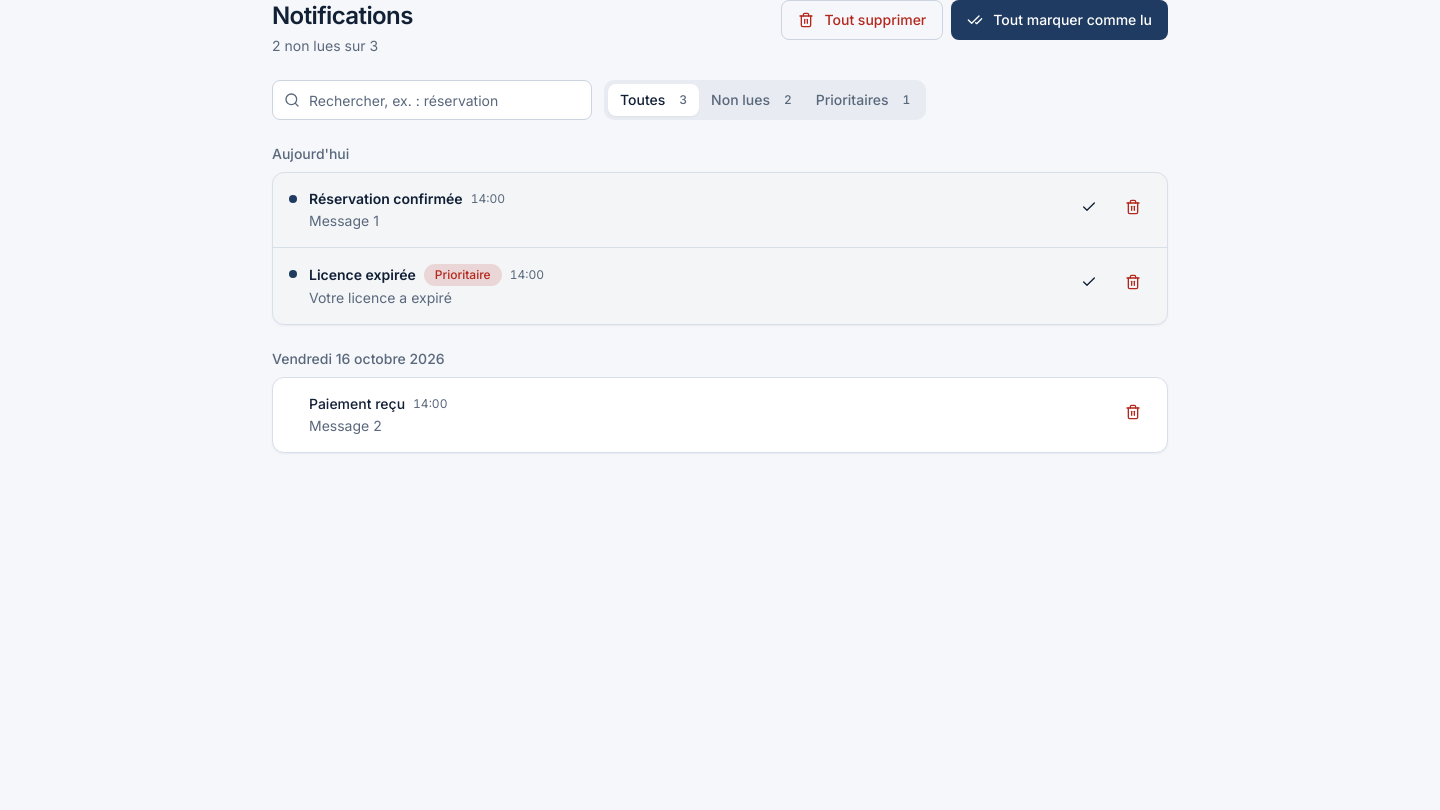
NotificationsPage › demande confirmation avant de tout supprimer, puis supprime tout en une seule requête
expect the text "Message 1" is shown: met, box left=309, top=212, right=379, bottom=229
Click the button "Tout supprimer" at {"x": 862, "y": 20}, box left=782, top=0, right=943, bottom=40
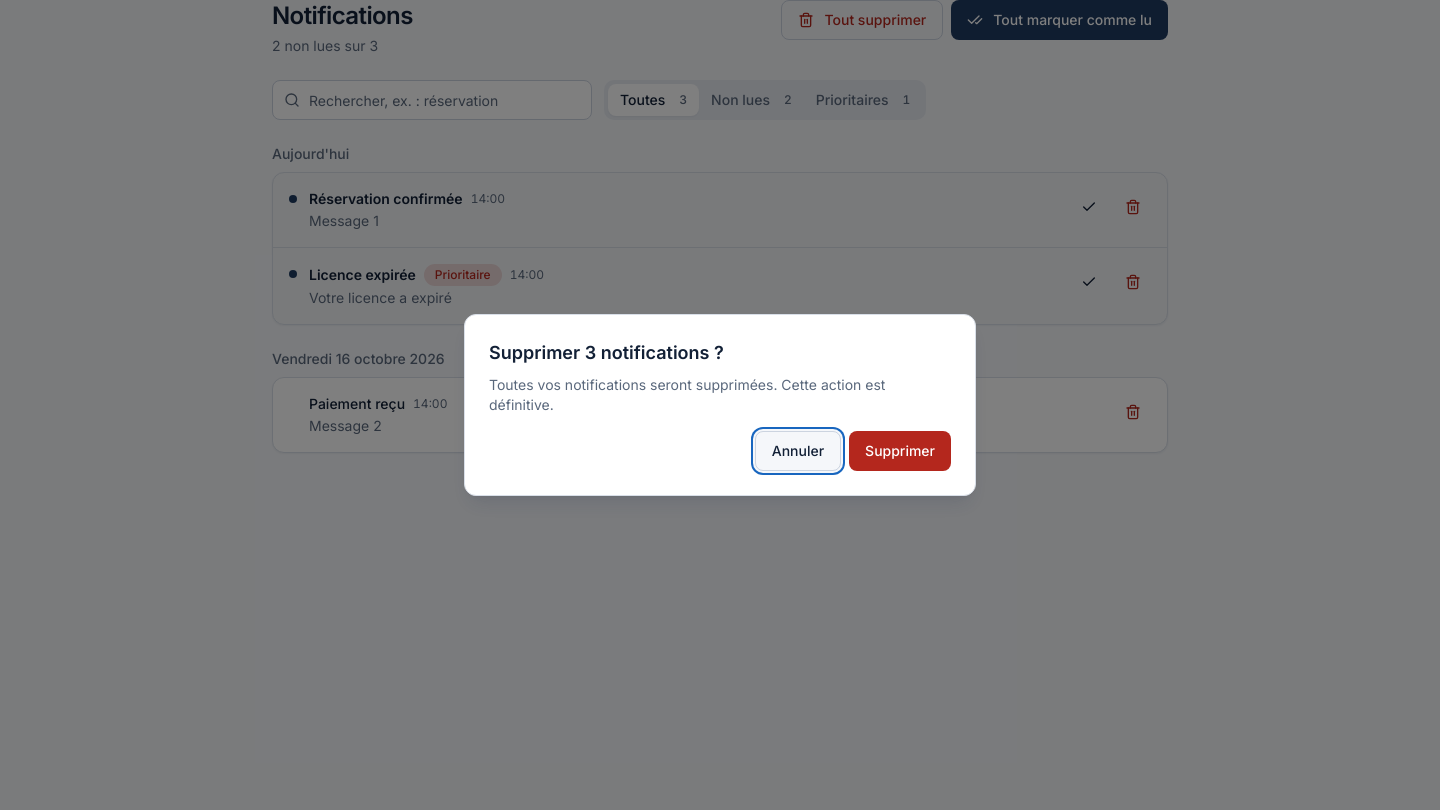
expect the heading "Supprimer 3 notifications ?" is shown: met, box left=489, top=342, right=724, bottom=363
expect the text "Toutes vos notifications seront supprimées" is shown: met, box left=489, top=376, right=886, bottom=413
Click the button "Supprimer" at {"x": 900, "y": 451}, box left=849, top=431, right=951, bottom=471
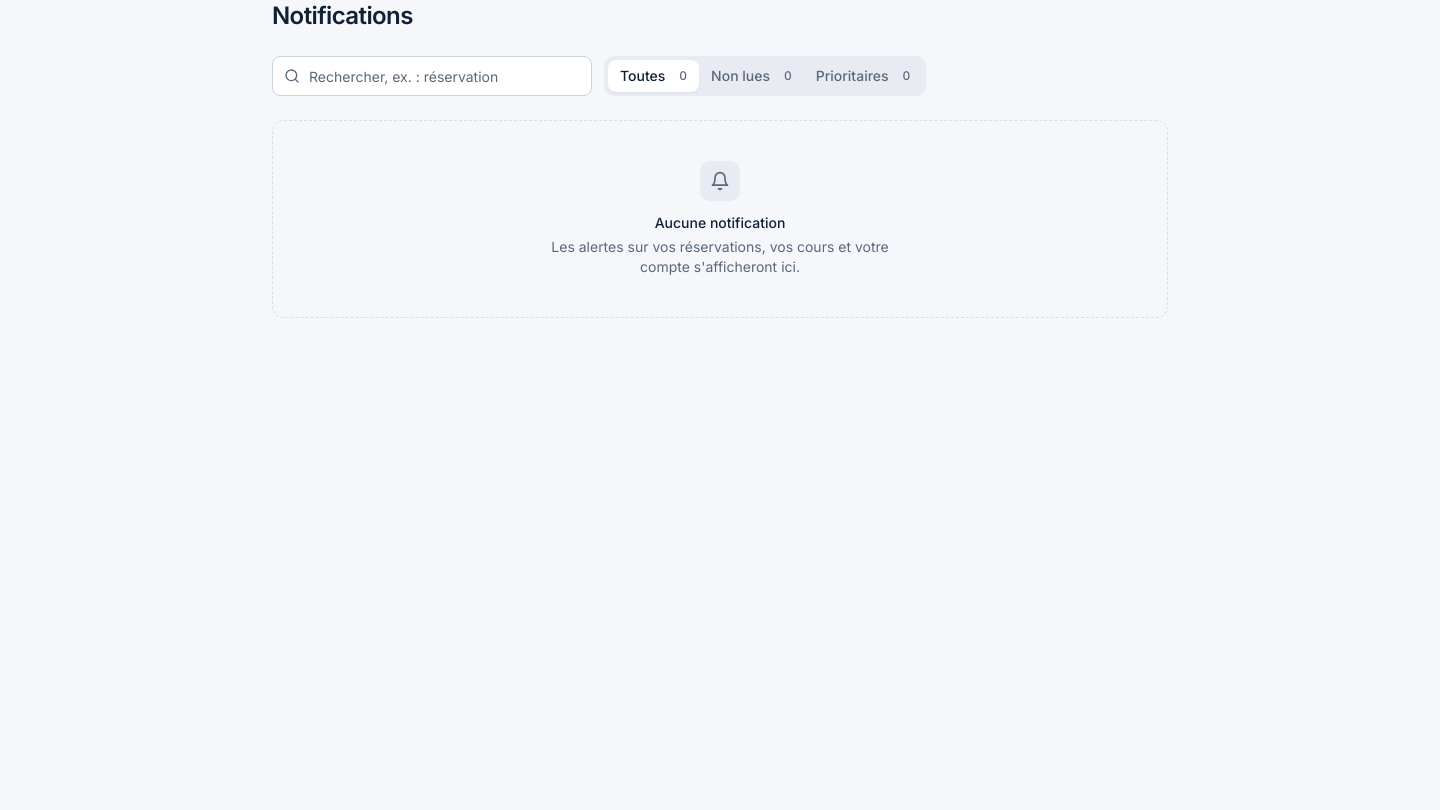
expect the text "Aucune notification" is shown: met, box left=655, top=213, right=785, bottom=233
